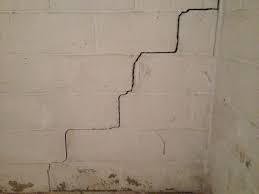stairstep_crack: (45, 0, 218, 193)
